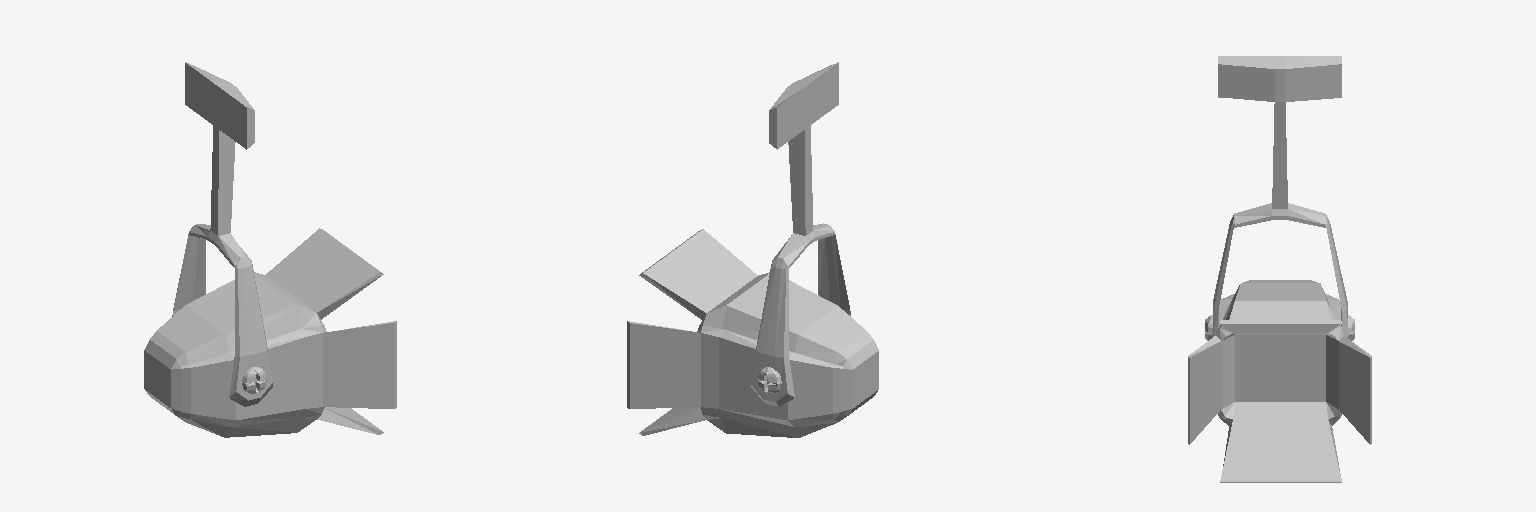
The model's file is Box o chaos downward lights .obj.
3 views of the same model, side by side, from view 1: azimuth 30°, elevation 25°; view 2: azimuth 150°, elevation 25°; view 3: azimuth 270°, elevation 25° (orthographic).
Parts seen in each view (by area): view 1: Scaffolding_Light:pCube5 Scaffolding_Light:polySurface1; view 2: Scaffolding_Light:pCube5 Scaffolding_Light:polySurface1; view 3: Scaffolding_Light:pCube5 Scaffolding_Light:polySurface1.
Boxes of the visible parts, x1,y1,x2,y2 form: Scaffolding_Light:pCube5 Scaffolding_Light:polySurface1: [144, 62, 396, 437]; Scaffolding_Light:pCube5 Scaffolding_Light:polySurface1: [627, 62, 878, 437]; Scaffolding_Light:pCube5 Scaffolding_Light:polySurface1: [1188, 56, 1371, 482].
Size of the model in its own units: 0.9024 by 1.59 by 0.7359.